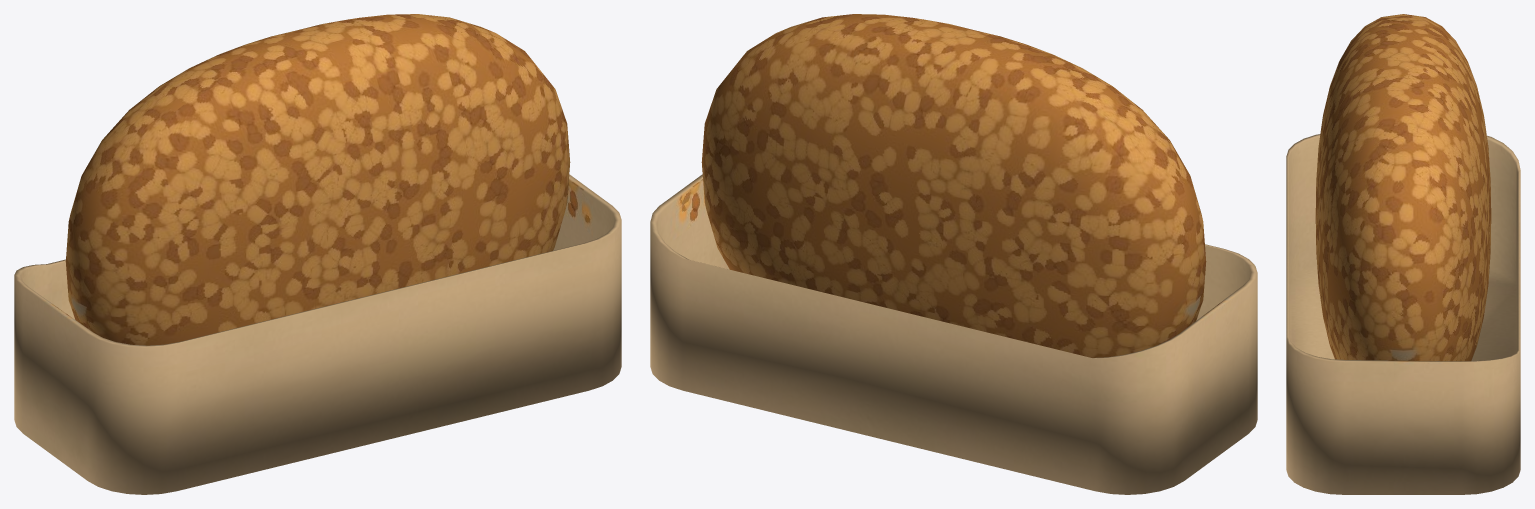
The model's file is korokke.glb.
The picture shows the model from 3 angles, left to right: view 1: azimuth 30°, elevation 25°; view 2: azimuth 150°, elevation 25°; view 3: azimuth 270°, elevation 25°; orthographic projection. The views are drawn at different scales.
Parts seen in each view (by area): view 1: prop_korokke_felt; view 2: prop_korokke_felt; view 3: prop_korokke_felt.
Boxes of the visible parts, x1=… form: prop_korokke_felt: x1=14, y1=14, x2=621, y2=494; prop_korokke_felt: x1=650, y1=14, x2=1257, y2=494; prop_korokke_felt: x1=1286, y1=14, x2=1520, y2=494.
Bounding box in the file's own units: 0.168 × 0.1095 × 0.072.
Materials: 1 (1 with a texture image).
